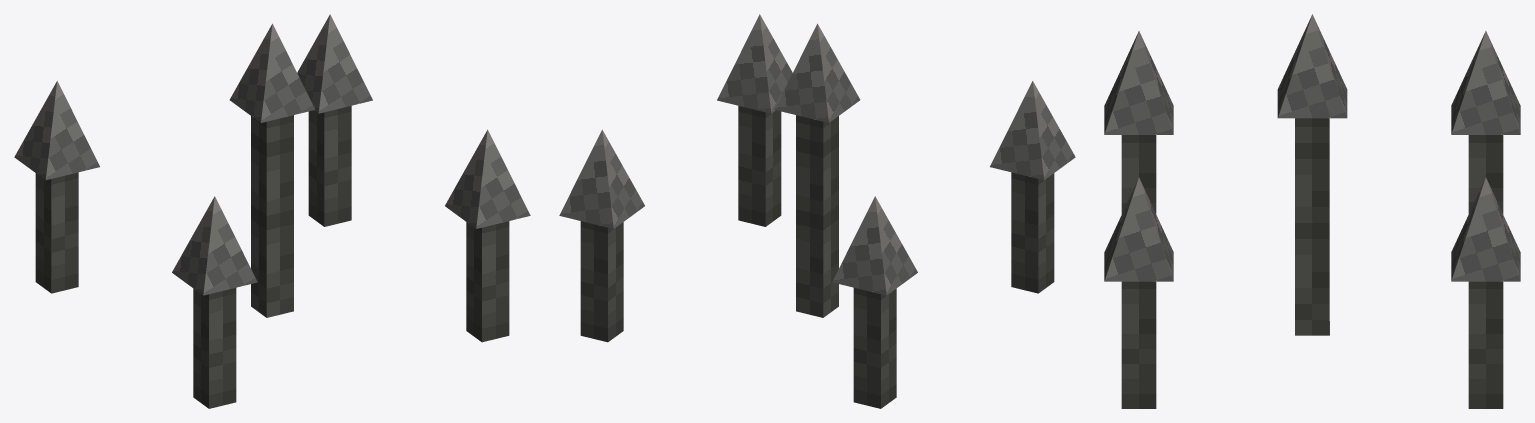
Rendered from Spikes_Stone.glb.
3 renders of one model, left to right at view 1: azimuth 30°, elevation 25°; view 2: azimuth 150°, elevation 25°; view 3: azimuth 270°, elevation 25°, orthographic. The views are drawn at different scales.
Visible parts, largest first — view 1: spike.001; view 2: spike.001; view 3: spike.001.
Part boxes in pixels (x1,y1,x2,y2): spike.001: [14, 14, 530, 408]; spike.001: [559, 14, 1075, 408]; spike.001: [1104, 14, 1520, 408].
Bounding box in the file's own units: 0.75 × 0.625 × 0.75.
1 material, 1 textured.
